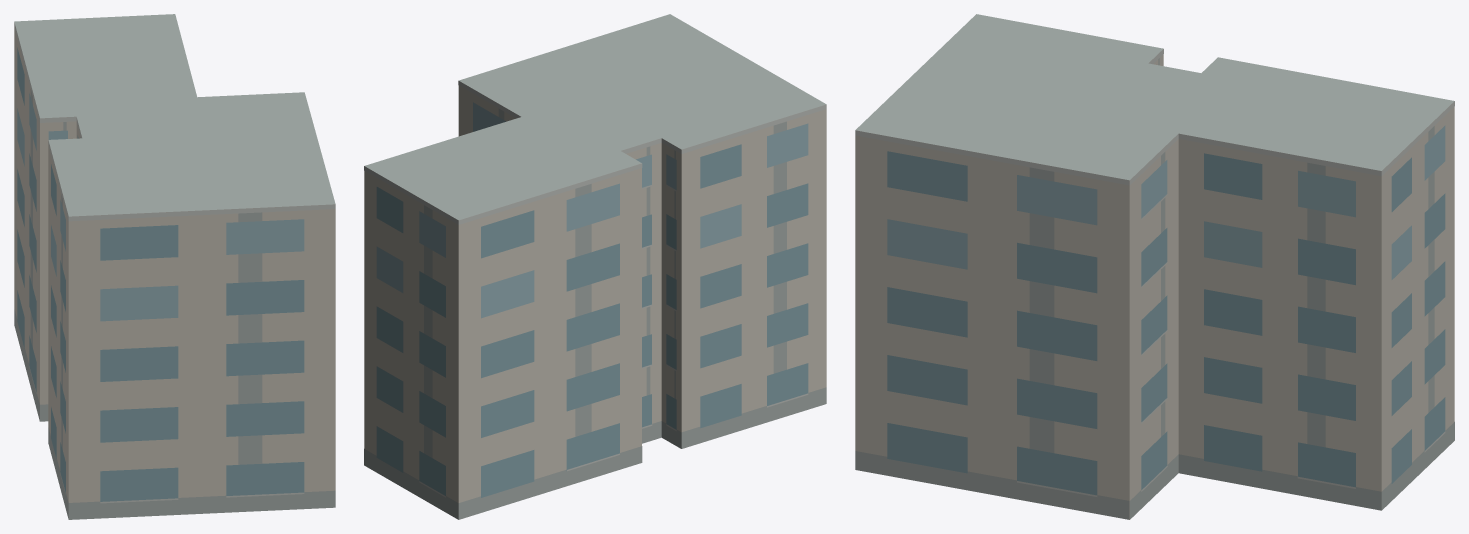
File: survey-upis-32888602.glb
3 renders of one model, left to right at view 1: azimuth 30°, elevation 25°; view 2: azimuth 150°, elevation 25°; view 3: azimuth 270°, elevation 25°, orthographic. The views are drawn at different scales.
Parts seen in each view (by area): view 1: survey-upis-32888602.tmp; view 2: survey-upis-32888602.tmp; view 3: survey-upis-32888602.tmp.
Boxes of the visible parts, bbox=[...] form: survey-upis-32888602.tmp: bbox=[14, 14, 335, 519]; survey-upis-32888602.tmp: bbox=[364, 14, 826, 519]; survey-upis-32888602.tmp: bbox=[855, 14, 1454, 519].
Bounding box in the file's own units: 16.45 × 15.65 × 25.05.
